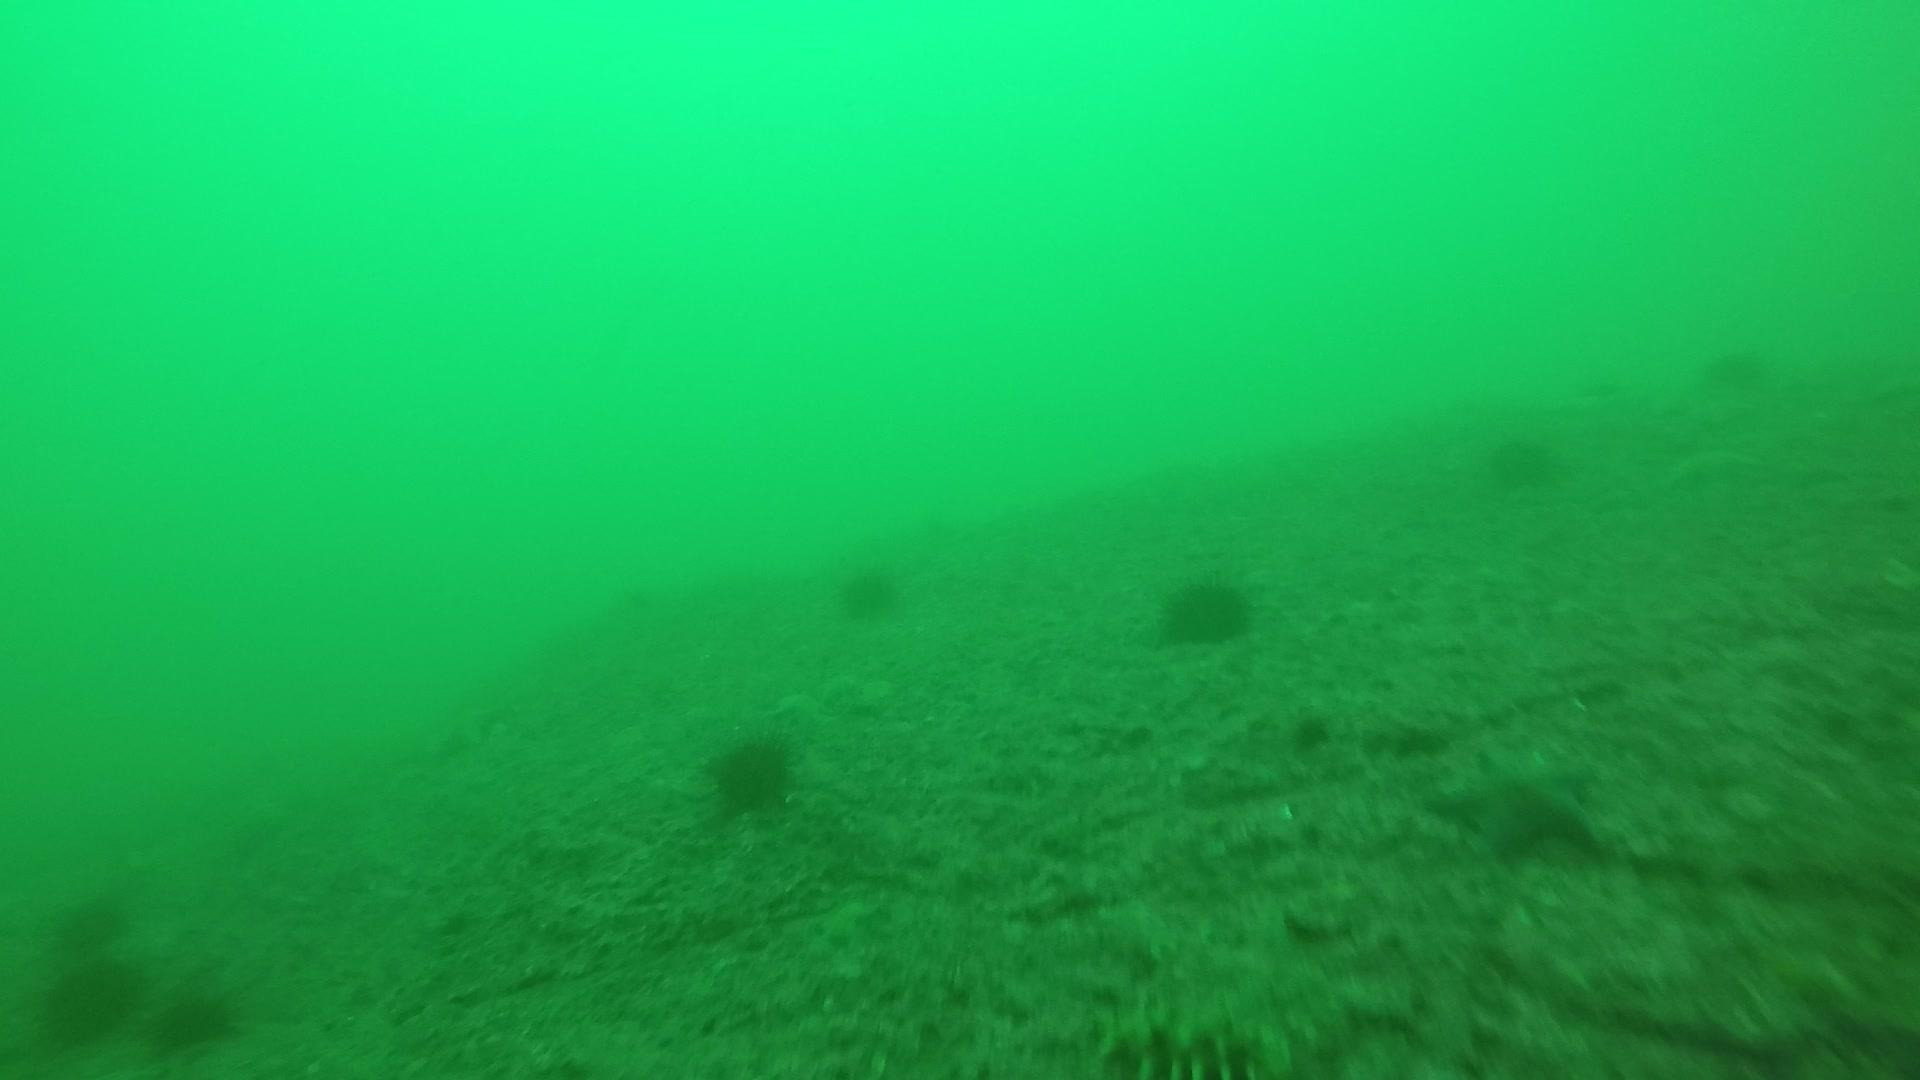echinus: (34, 952, 142, 1048), (702, 727, 802, 818), (1154, 568, 1257, 651), (146, 982, 243, 1058), (1480, 425, 1567, 495), (50, 887, 135, 955), (832, 556, 907, 624), (1698, 339, 1772, 397)
holothurian: (1085, 992, 1290, 1076)
starfish: (1427, 738, 1607, 865)
